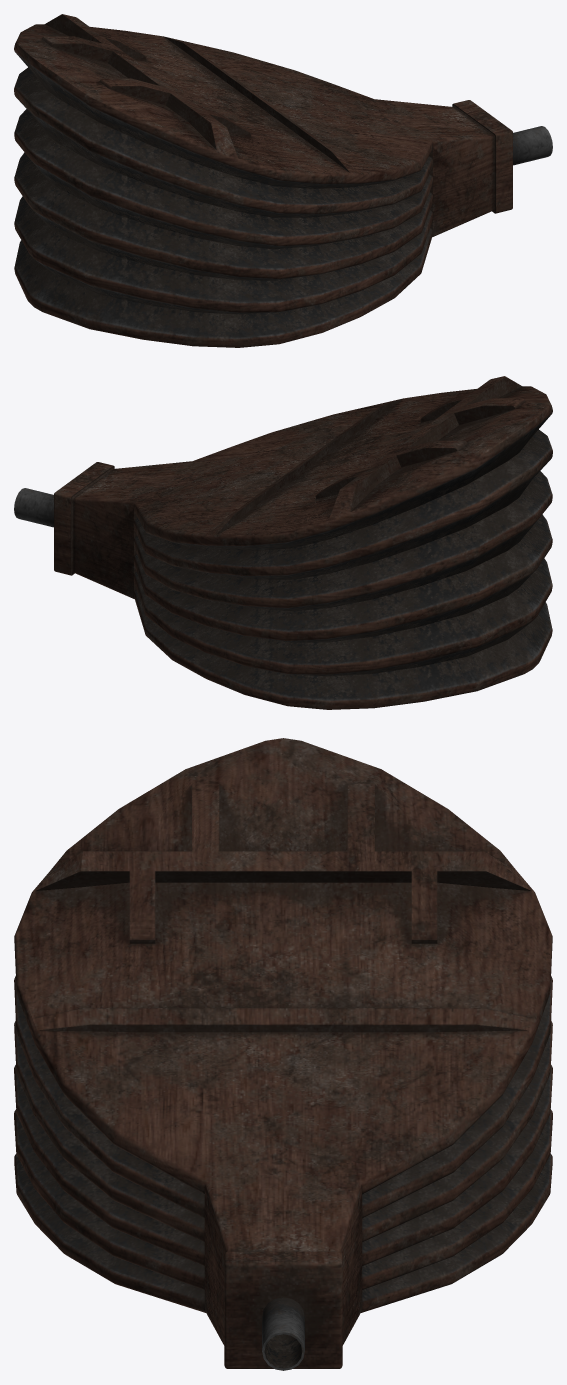
File: substance.fbx
3 views of the same model, one above another, from view 1: azimuth 30°, elevation 25°; view 2: azimuth 150°, elevation 25°; view 3: azimuth 270°, elevation 25° (orthographic). The views are drawn at different scales.
Parts seen in each view (by area): view 1: Cube; view 2: Cube; view 3: Cube.
Boxes of the visible parts, x1=… form: Cube: x1=14, y1=14, x2=552, y2=347; Cube: x1=14, y1=376, x2=552, y2=709; Cube: x1=14, y1=738, x2=552, y2=1370.
Bounding box in the file's own units: 266 × 124 × 181.
1 material, 1 textured.
